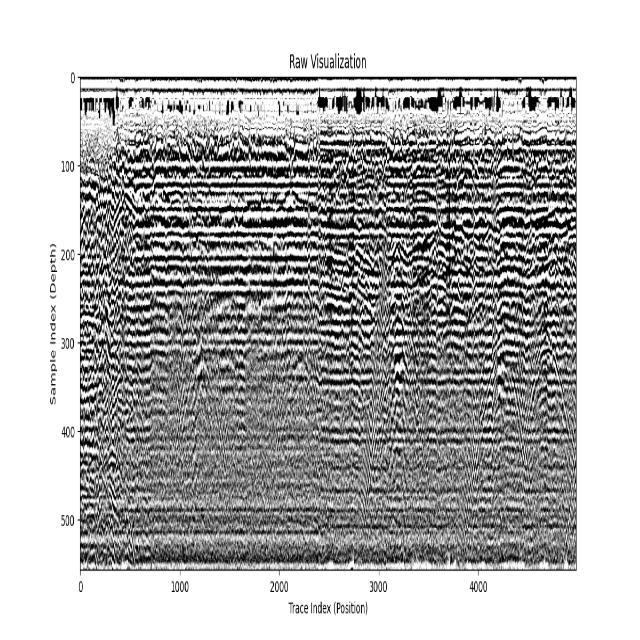anomaly: (182, 264, 227, 474), (381, 285, 415, 510), (269, 313, 321, 445), (523, 325, 569, 444)
